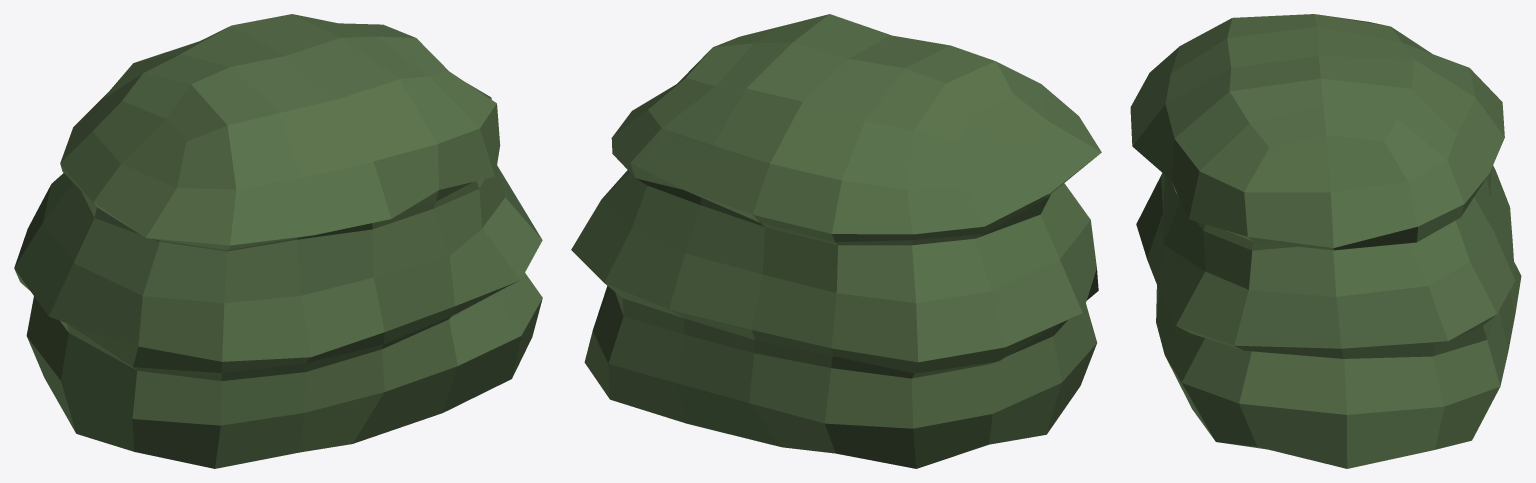
The model's file is bushberries_harvested.glb.
The picture shows the model from 3 angles, left to right: view 1: azimuth 30°, elevation 25°; view 2: azimuth 150°, elevation 25°; view 3: azimuth 270°, elevation 25°; orthographic projection. The views are drawn at different scales.
Visible parts, largest first — view 1: BushBerries_Harvested; view 2: BushBerries_Harvested; view 3: BushBerries_Harvested.
Boxes of the visible parts, <box> form: BushBerries_Harvested: <box>14,14,542,468</box>; BushBerries_Harvested: <box>571,14,1101,468</box>; BushBerries_Harvested: <box>1130,14,1521,468</box>.
Bounding box in the file's own units: 1.72 × 1.25 × 1.32.
